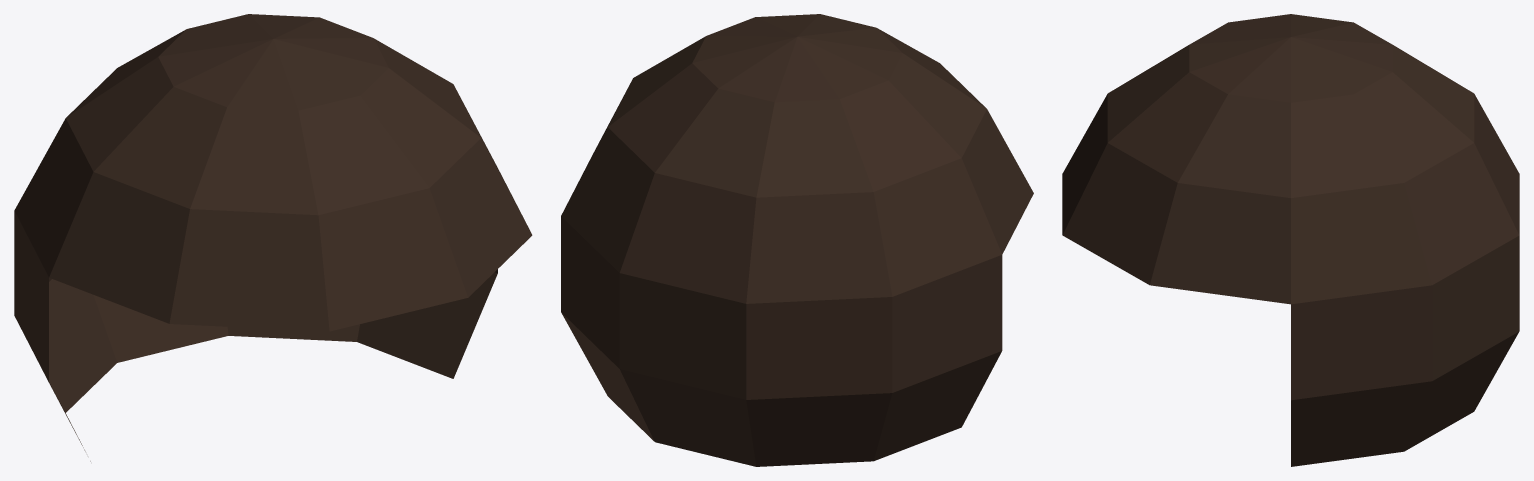
File: mi_long.glb
3 renders of one model, left to right at view 1: azimuth 30°, elevation 25°; view 2: azimuth 150°, elevation 25°; view 3: azimuth 270°, elevation 25°, orthographic. The views are drawn at different scales.
Parts seen in each view (by area): view 1: mi_long; view 2: mi_long; view 3: mi_long.
Part boxes in pixels (<box>): mi_long: <box>14,14,532,461</box>; mi_long: <box>561,14,1033,466</box>; mi_long: <box>1062,14,1519,466</box>.
Size of the model in its own units: 2.18 by 1.79 by 2.11.
Materials: 1 (1 with a texture image).
